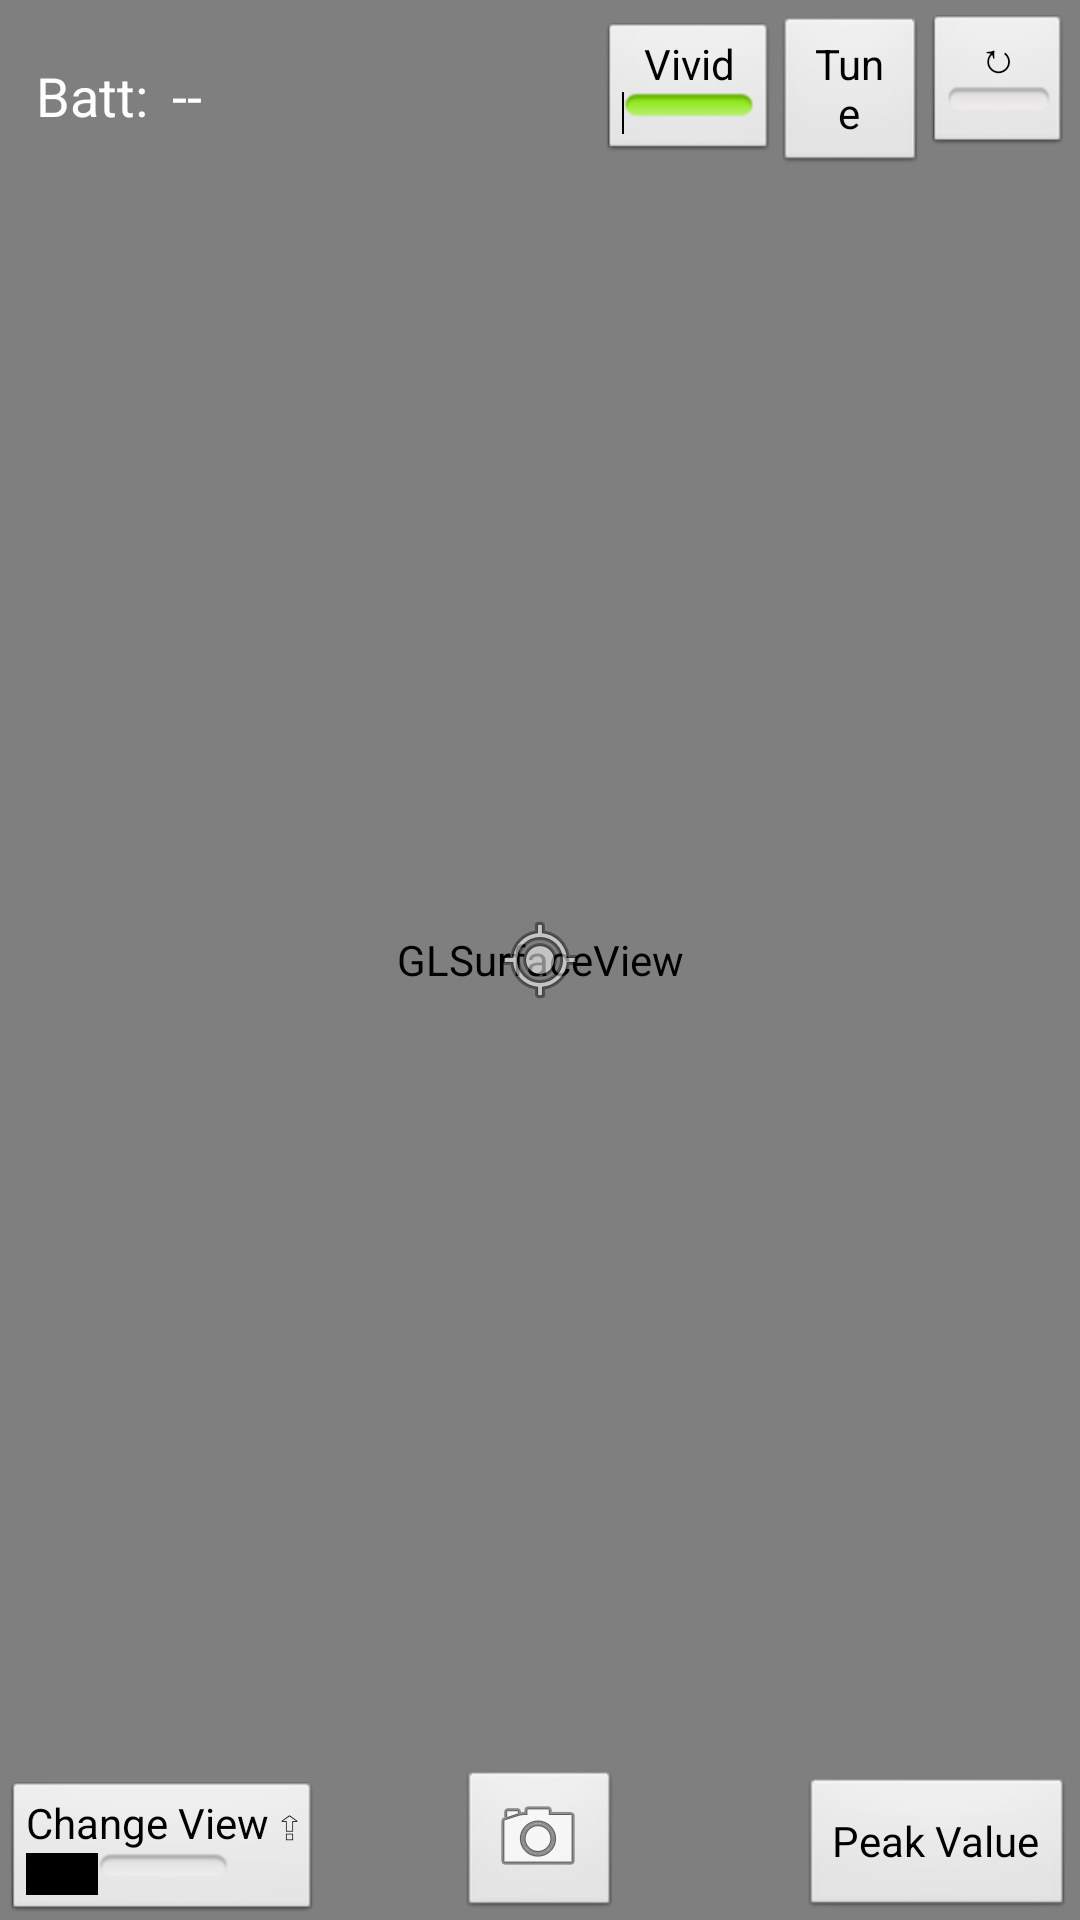

Icons on this 1080 x 1920 Android screen, each with the point to tap as (x=x, y=y):
camera: (x=539, y=1839)
